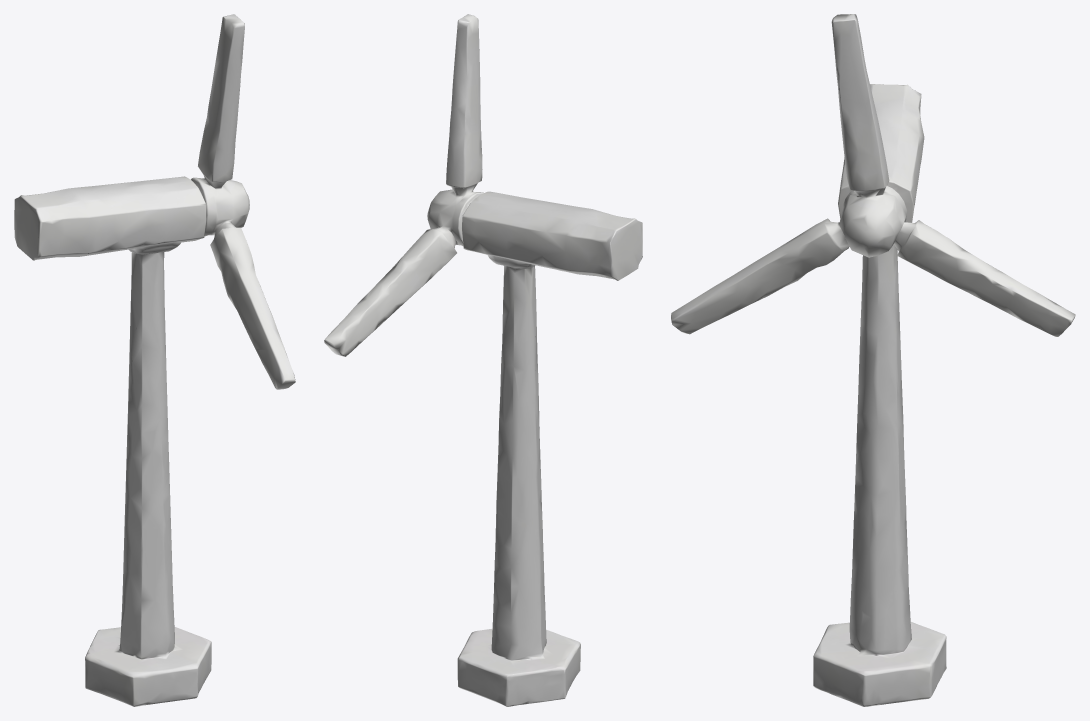
File: wind-turbine.glb
The picture shows the model from 3 angles, left to right: view 1: azimuth 30°, elevation 25°; view 2: azimuth 150°, elevation 25°; view 3: azimuth 270°, elevation 25°; orthographic projection. The views are drawn at different scales.
Parts seen in each view (by area): view 1: tripo_node_3813d58b-707c-456b-85ab-15bc9e7e30b5; view 2: tripo_node_3813d58b-707c-456b-85ab-15bc9e7e30b5; view 3: tripo_node_3813d58b-707c-456b-85ab-15bc9e7e30b5.
Part boxes in pixels (left/top/right/bottom): tripo_node_3813d58b-707c-456b-85ab-15bc9e7e30b5: left=14, top=14, right=295, bottom=706; tripo_node_3813d58b-707c-456b-85ab-15bc9e7e30b5: left=324, top=14, right=642, bottom=706; tripo_node_3813d58b-707c-456b-85ab-15bc9e7e30b5: left=671, top=14, right=1075, bottom=706.
Bounding box in the file's own units: 0.3669 × 1 × 0.525.
1 material, 1 textured.
